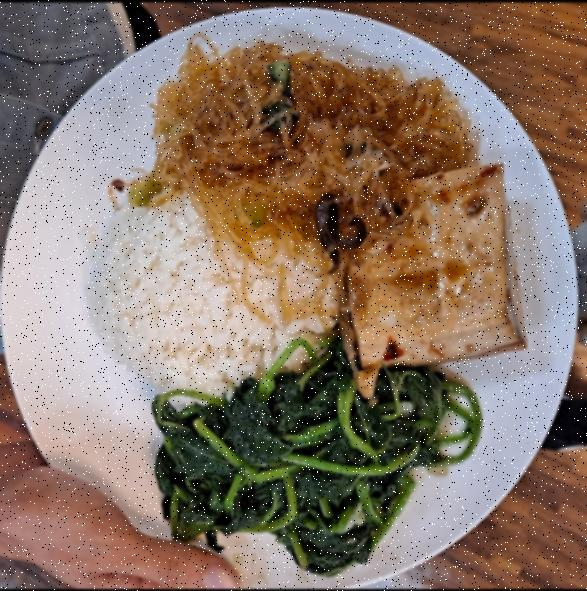plate: (6, 4, 584, 584)
side dish: (141, 364, 484, 576), (130, 42, 470, 218), (333, 166, 533, 373)
white rice: (75, 194, 343, 402)
